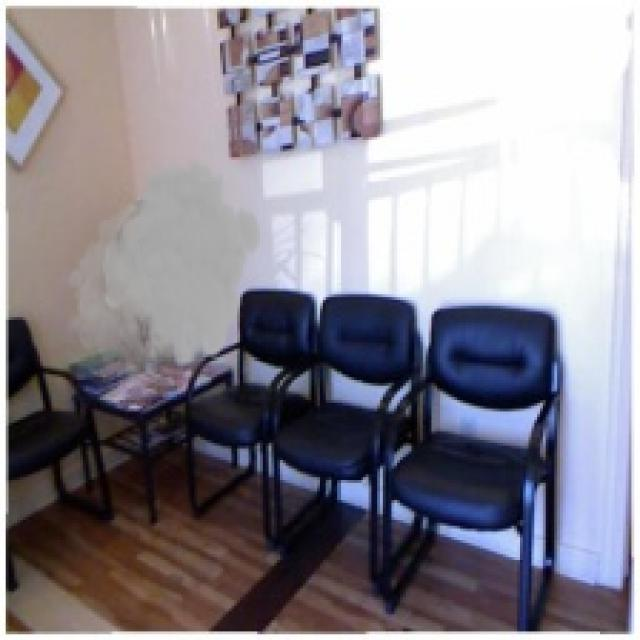smoke: (60, 154, 263, 386)
